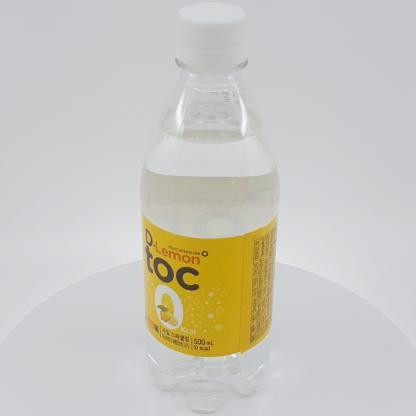------500ML: (140, 2, 280, 411)
